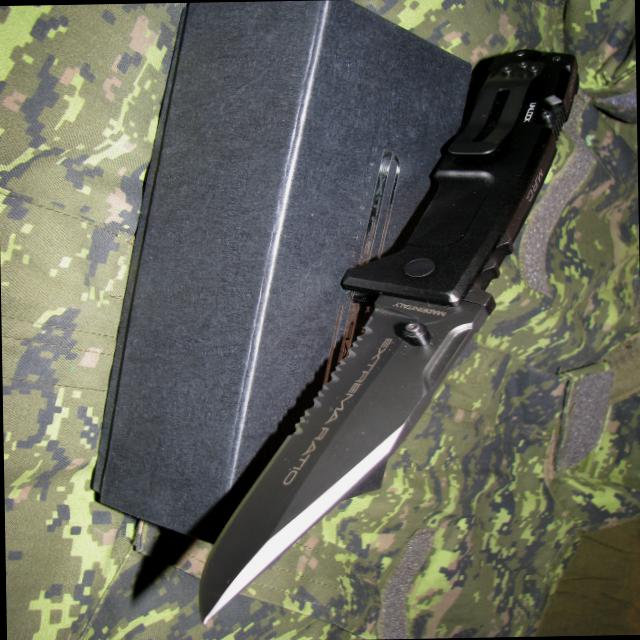knife: (187, 274, 511, 631)
